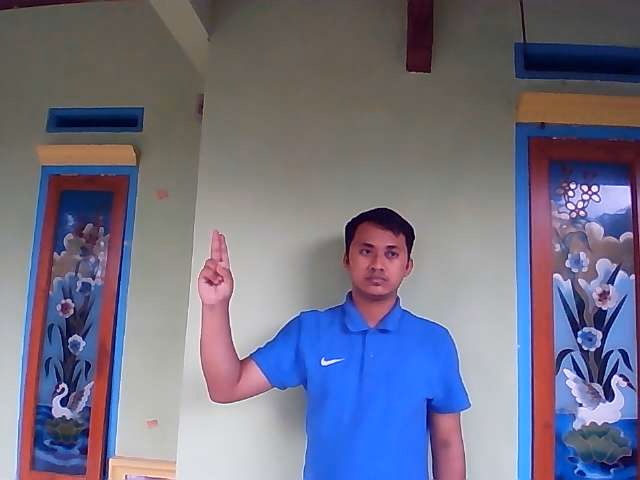U: (196, 229, 235, 305)
